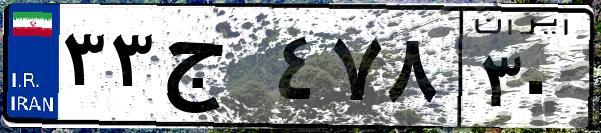0: (525, 38, 570, 115)
3: (57, 26, 110, 100), (475, 38, 525, 113), (110, 28, 158, 98)
4: (270, 28, 330, 110)
7: (330, 28, 385, 110)
8: (385, 28, 445, 110)
ج: (158, 20, 270, 120)
